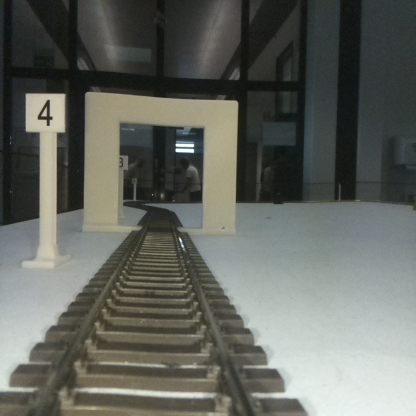white-info-4: (25, 93, 65, 265)
